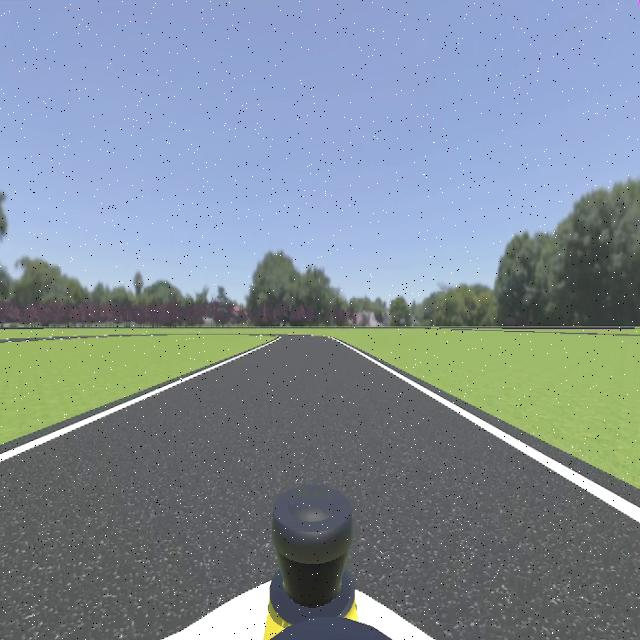road: (0, 337, 640, 640)
solid_line: (331, 338, 640, 524), (0, 340, 275, 465)
